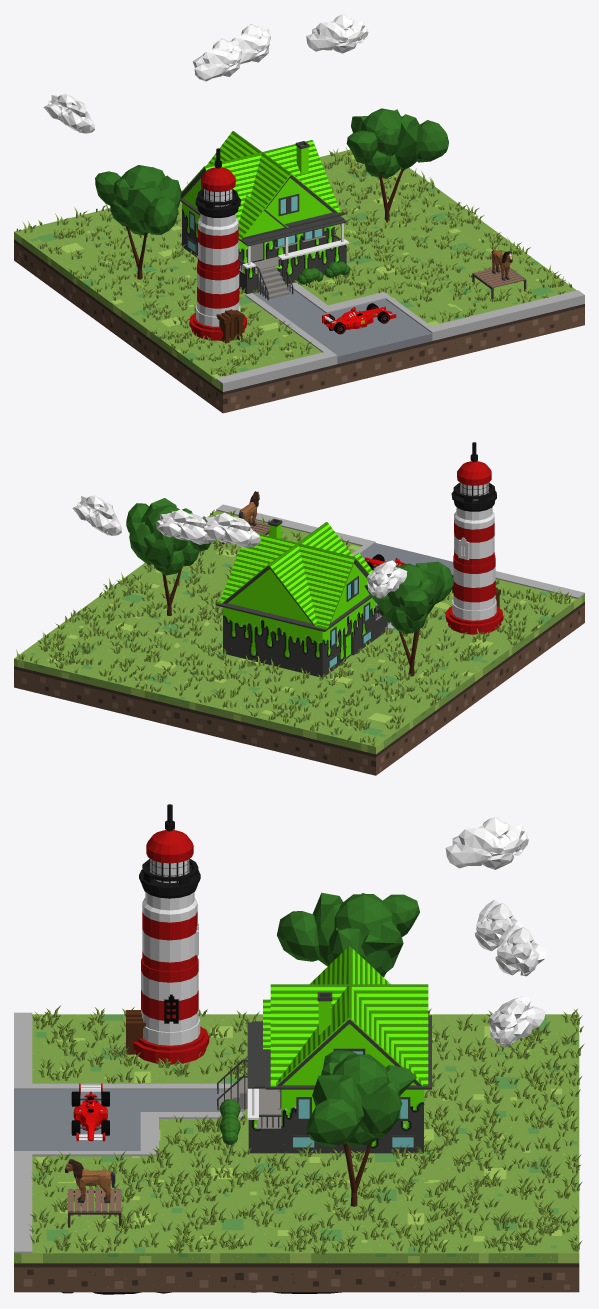
3 renders of one model, top to bottom at view 1: azimuth 30°, elevation 25°; view 2: azimuth 150°, elevation 25°; view 3: azimuth 270°, elevation 25°, orthographic. The views are drawn at different scales.
Parts seen in each view (by area): view 1: Cube.006, Circle.012_Grass_0.192, Cube.754, OBJRANDOM_LIGHTHOUSE, Cube.007, tree, tree.001, VEHICLES_FORMULA_1, Cube.009; view 2: Cube.006, Cube.754, Circle.012_Grass_0.192, OBJRANDOM_LIGHTHOUSE, Cube.007, tree.001, tree; view 3: Cube.006, Circle.012_Grass_0.192, Cube.754, OBJRANDOM_LIGHTHOUSE, tree, Cube.007, tree.001, VEHICLES_FORMULA_1, Cube.009, ANIMAL_CABALLO.
Boxes of the visible parts, left/top/right/bottom form: Cube.006: left=14, top=149, right=584, bottom=413; Circle.012_Grass_0.192: left=16, top=147, right=572, bottom=376; Cube.754: left=180, top=131, right=349, bottom=300; OBJRANDOM_LIGHTHOUSE: left=189, top=148, right=246, bottom=343; Cube.007: left=43, top=14, right=368, bottom=133; tree: left=346, top=108, right=448, bottom=222; tree.001: left=95, top=165, right=181, bottom=279; VEHICLES_FORMULA_1: left=322, top=303, right=396, bottom=334; Cube.009: left=472, top=266, right=526, bottom=298; Cube.006: left=14, top=504, right=584, bottom=775; Cube.754: left=215, top=518, right=387, bottom=677; Circle.012_Grass_0.192: left=16, top=509, right=572, bottom=746; OBJRANDOM_LIGHTHOUSE: left=445, top=442, right=503, bottom=634; Cube.007: left=72, top=495, right=407, bottom=598; tree.001: left=364, top=561, right=453, bottom=676; tree: left=126, top=498, right=210, bottom=615; Cube.006: left=14, top=1012, right=579, bottom=1292; Circle.012_Grass_0.192: left=29, top=1005, right=584, bottom=1254; Cube.754: left=217, top=946, right=431, bottom=1153; OBJRANDOM_LIGHTHOUSE: left=126, top=804, right=209, bottom=1064; tree: left=306, top=1050, right=416, bottom=1206; Cube.007: left=445, top=817, right=545, bottom=1047; tree.001: left=277, top=892, right=419, bottom=977; VEHICLES_FORMULA_1: left=71, top=1083, right=109, bottom=1141; Cube.009: left=68, top=1188, right=121, bottom=1227; ANIMAL_CABALLO: left=64, top=1158, right=115, bottom=1203.
Bounding box in the file's own units: 4071 × 2261 × 4040.
40 materials, 4 textured.
